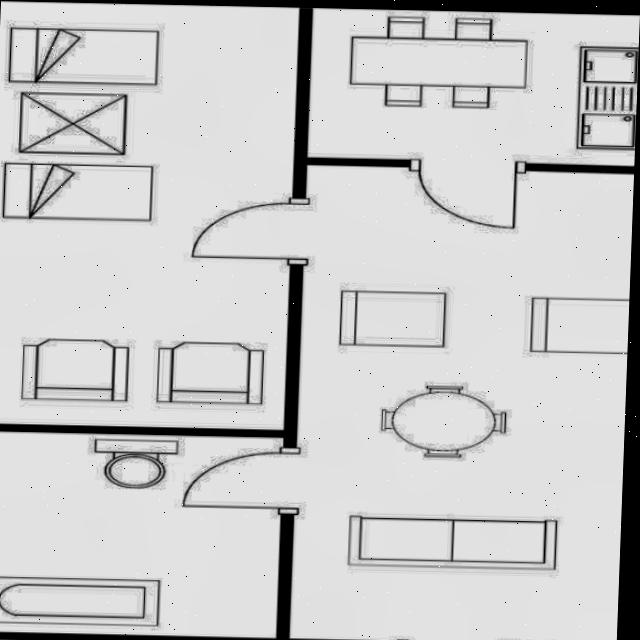room: (291, 162, 634, 640), (0, 2, 299, 429), (0, 432, 282, 638), (308, 9, 640, 164)
